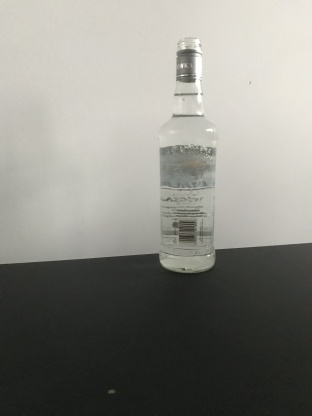nakretka: (174, 36, 203, 83)
